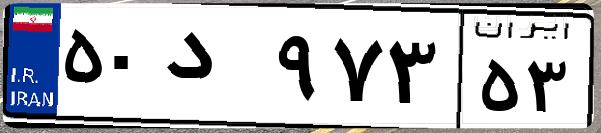0: (110, 28, 158, 98)
3: (385, 28, 445, 110), (525, 38, 570, 115)
5: (57, 26, 110, 100), (475, 38, 525, 113)
7: (330, 28, 385, 110)
9: (270, 28, 330, 110)
د: (158, 20, 270, 120)
